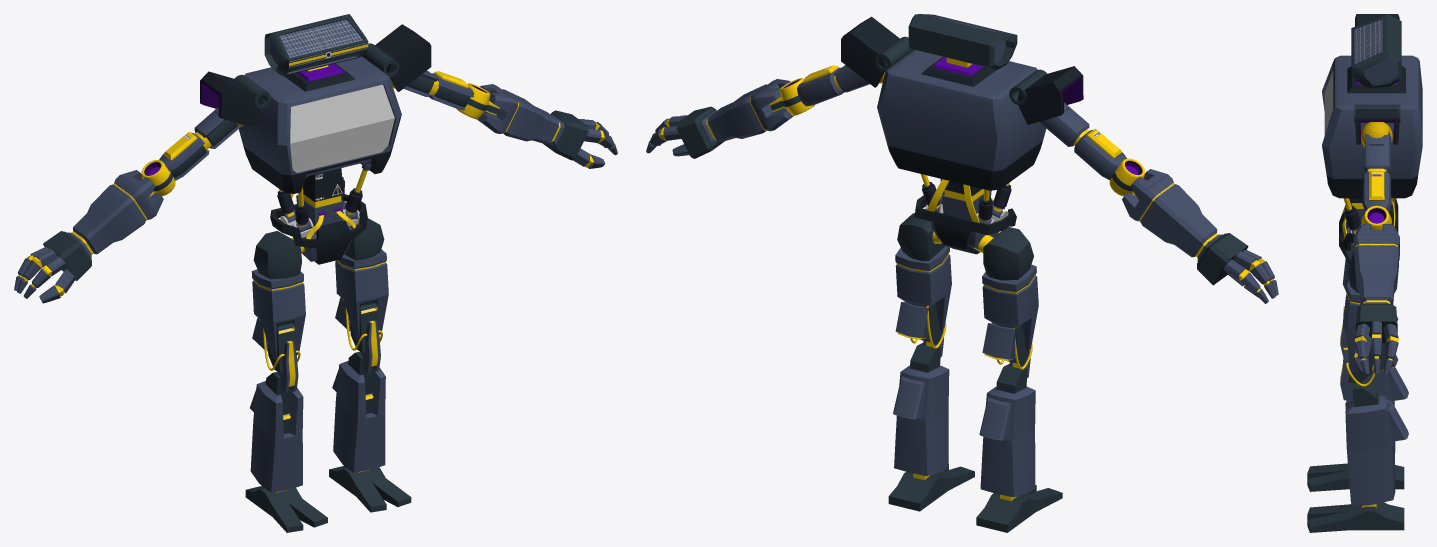
File: Robort_副本.fbx
3 views of the same model, side by side, from view 1: azimuth 30°, elevation 25°; view 2: azimuth 150°, elevation 25°; view 3: azimuth 270°, elevation 25° (orthographic). The views are drawn at different scales.
Parts seen in each view (by area): view 1: Big-armor, forearm, Small-armor, chess_1, decor.002, head, foot, chess_1.002, chess_1.001, Dazhuanzi01, upper_arm.001, wrist (+13 smaller); view 2: chess_1, Big-armor, Small-armor, forearm, decor.002, upper_arm.001, foot, head, Dazhuanzi01, chess_2, wrist, hip (+8 smaller); view 3: chess_1, Big-armor, foot, forearm, head, upper_arm.001, decor.002, Small-armor, chess_2, 柱体.010, wrist, neck_base (+13 smaller).
Boxes of the visible parts, x1,y1,x2,y2 form: Big-armor: (250,360,385,492); forearm: (68,84,564,258); Small-armor: (251,249,388,359); chess_1: (239,56,401,175); decor.002: (200,24,431,127); head: (264,14,368,75); foot: (245,466,411,532); chess_1.002: (336,84,394,162); chess_1.001: (290,96,341,172); Dazhuanzi01: (253,218,384,279); upper_arm.001: (159,70,473,180); wrist: (43,110,588,280); chess_1: (877,50,1046,171); Big-armor: (893,365,1035,497); Small-armor: (895,245,1038,360); forearm: (701,79,1222,261); decor.002: (841,16,1083,124); upper_arm.001: (797,65,1126,180); foot: (888,464,1062,532); head: (908,14,1017,69); Dazhuanzi01: (897,213,1033,280); chess_2: (887,141,1042,190); wrist: (676,106,1248,285); hip: (914,195,1016,254); chess_1: (1322,55,1422,178); Big-armor: (1345,367,1408,506); foot: (1307,463,1404,532); forearm: (1353,224,1399,304); head: (1351,14,1401,88); upper_arm.001: (1362,129,1391,213); decor.002: (1354,14,1400,144); Small-armor: (1342,259,1398,372); chess_2: (1327,176,1417,198); 柱体.010: (1354,323,1398,374); wrist: (1356,304,1397,343); neck_base: (1347,66,1405,93).
Bounding box in the file's own units: 601 × 100 × 448.
